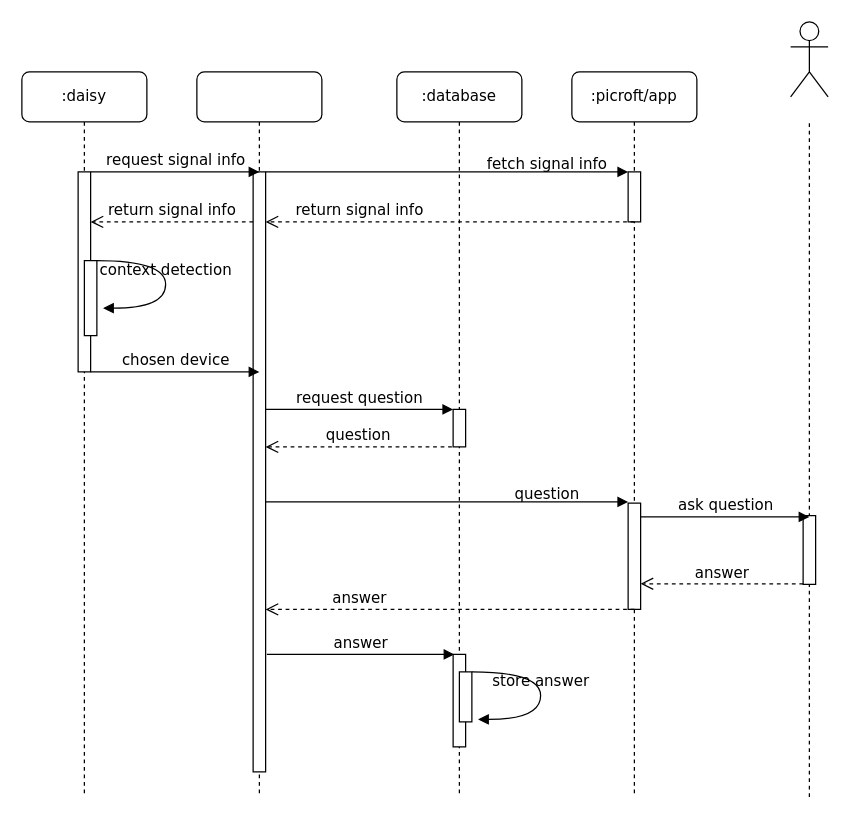
Image size: 850x820. Some labels were removed from this diagram. The shapes that lost their labels are listed below. From the top down, each one's box as (x1, y1, x2, y2) in pixels, then its label:
(789, 21, 828, 97): User
(196, 71, 322, 797): :server
